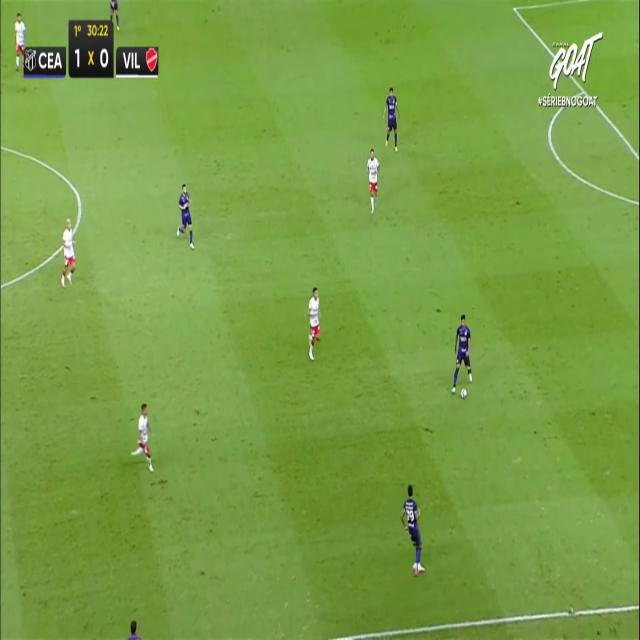ball: (461, 386, 469, 403), (461, 388, 467, 398)
player: (401, 484, 425, 575), (451, 313, 473, 393), (131, 403, 155, 472), (176, 182, 194, 249), (12, 9, 30, 74), (383, 86, 400, 152), (60, 217, 76, 287), (307, 286, 321, 360), (366, 148, 380, 214), (109, 0, 122, 31)
